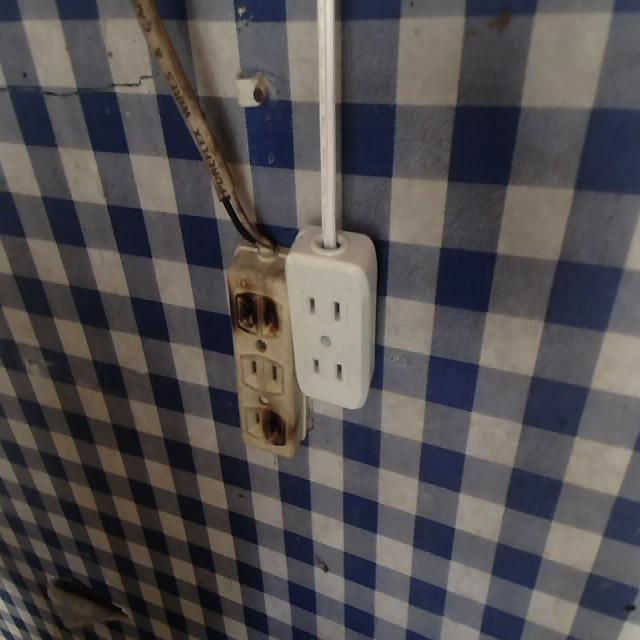-: (233, 286, 283, 338), (265, 408, 285, 449)
